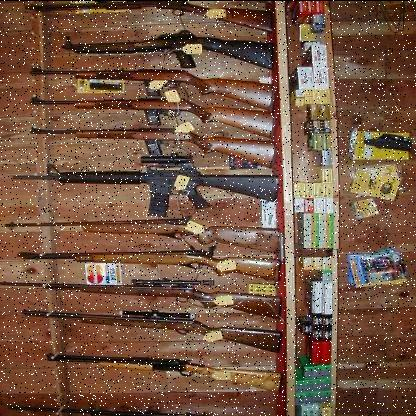rifle: (3, 144, 280, 215), (0, 269, 286, 323), (27, 55, 276, 112), (35, 344, 283, 399), (15, 302, 280, 352), (18, 119, 279, 168), (0, 214, 300, 255), (26, 87, 274, 135), (1, 238, 289, 279), (49, 27, 290, 69), (21, 1, 281, 22)
